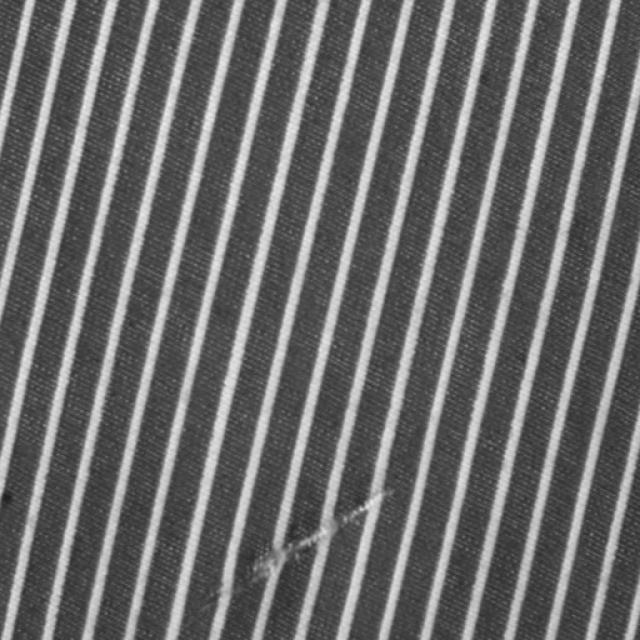Thread-Defect: (196, 488, 394, 620)
